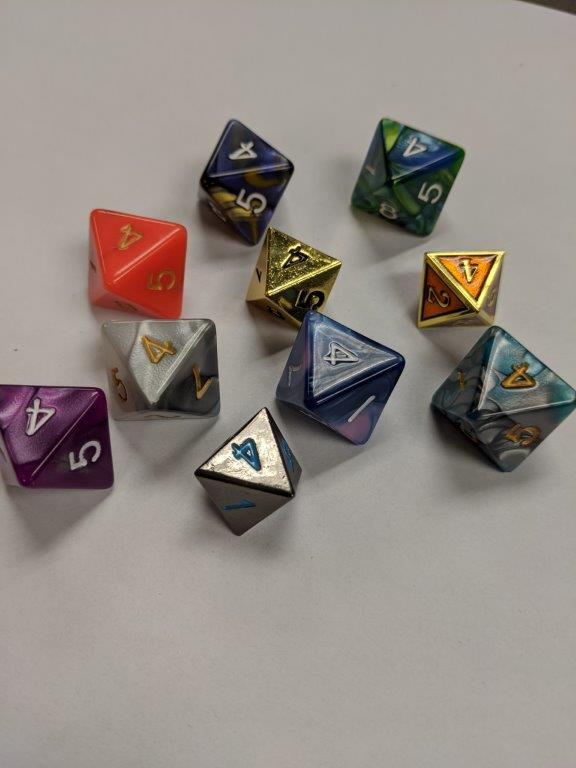d8-4: (428, 322, 576, 476), (274, 313, 409, 445), (192, 407, 303, 536), (350, 118, 464, 239), (100, 318, 224, 422), (202, 116, 297, 245), (1, 387, 115, 489), (86, 208, 189, 317), (241, 231, 341, 322), (421, 250, 503, 325)
